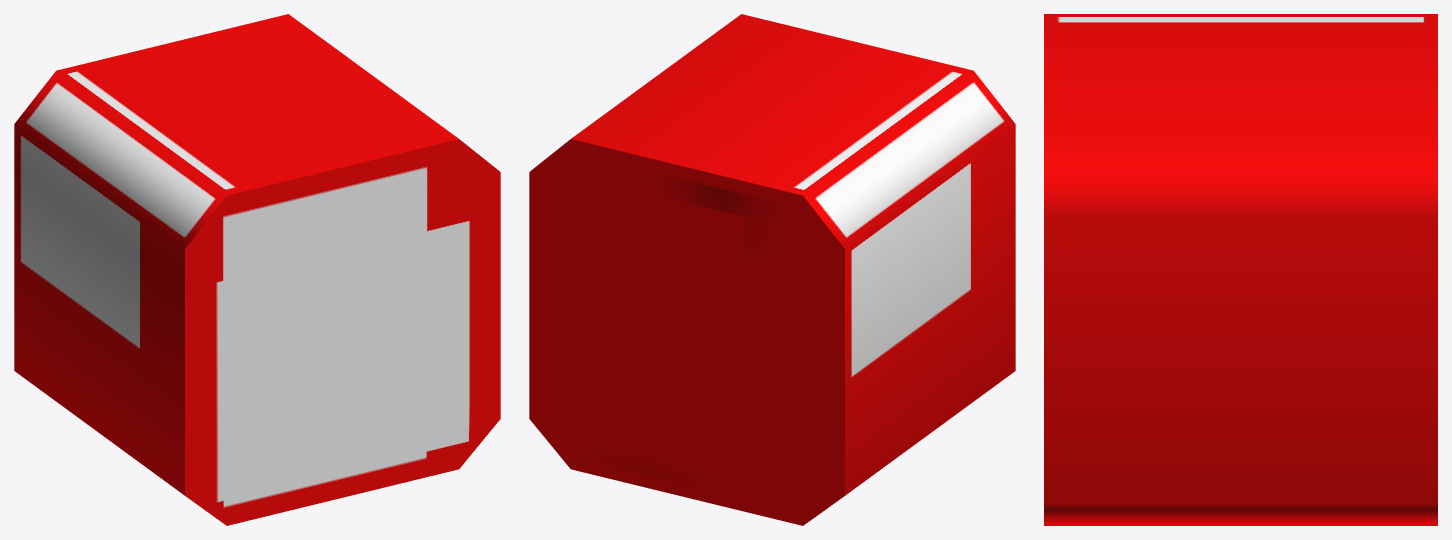
The picture shows the model from 3 angles, left to right: view 1: azimuth 30°, elevation 25°; view 2: azimuth 150°, elevation 25°; view 3: azimuth 270°, elevation 25°; orthographic projection. The views are drawn at different scales.
Parts seen in each view (by area): view 1: pasted__pasted__pCube3; view 2: pasted__pasted__pCube3; view 3: pasted__pasted__pCube3.
Boxes of the visible parts, bbox=[...] form: pasted__pasted__pCube3: bbox=[14, 14, 500, 525]; pasted__pasted__pCube3: bbox=[529, 14, 1015, 525]; pasted__pasted__pCube3: bbox=[1044, 14, 1437, 525].
Bounding box in the file's own units: 9.6 × 9.6 × 8.99.
1 material, 1 textured.
